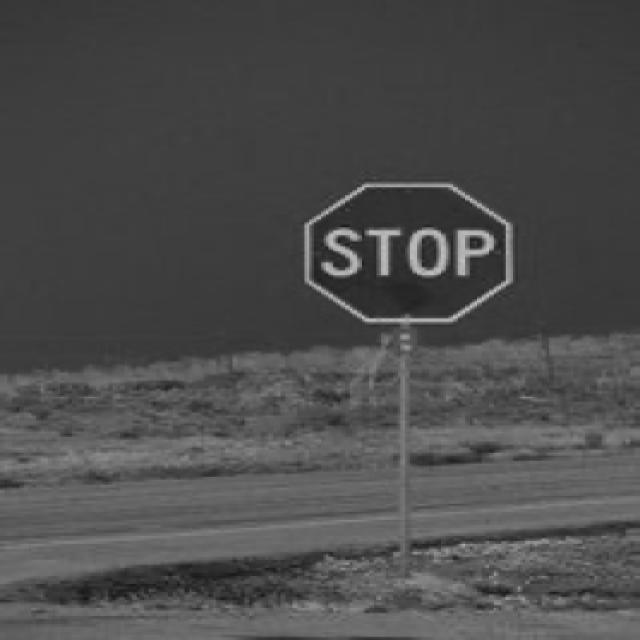Stop-signs: (305, 183, 514, 323)
